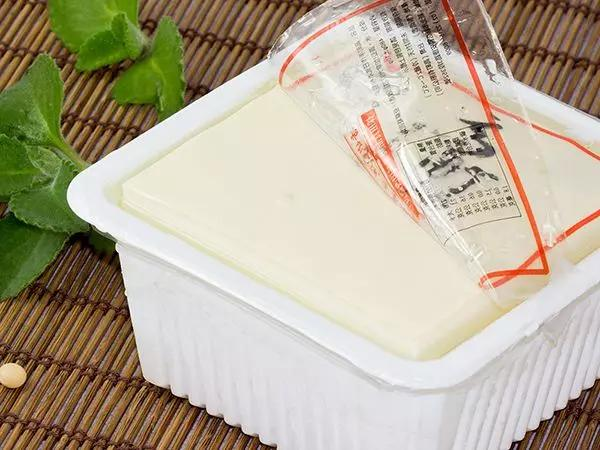organic: (48, 0, 147, 69)
plastic: (68, 0, 599, 449)
